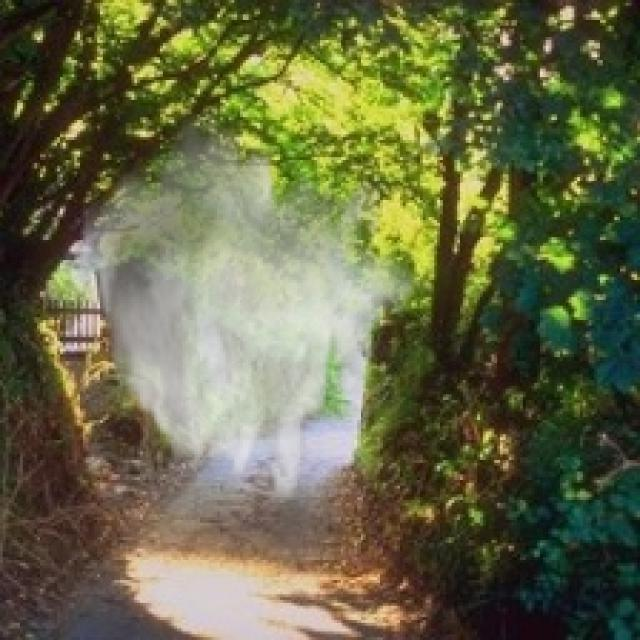smoke: (72, 106, 417, 508)
